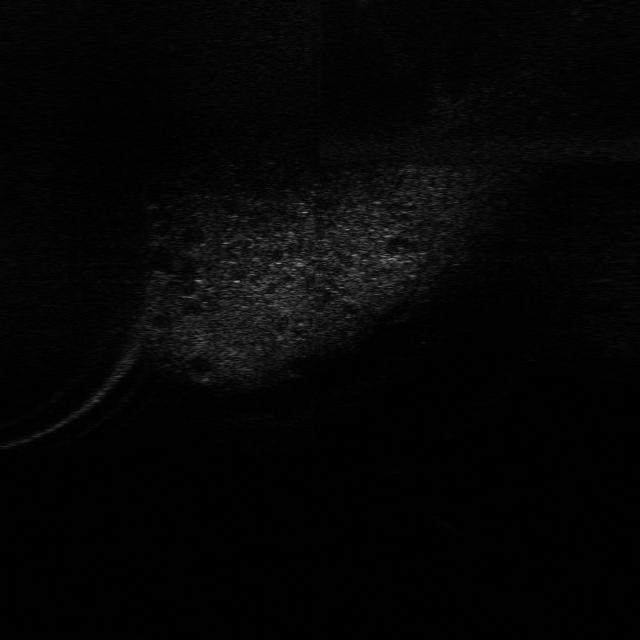cube: (366, 451, 426, 480)
